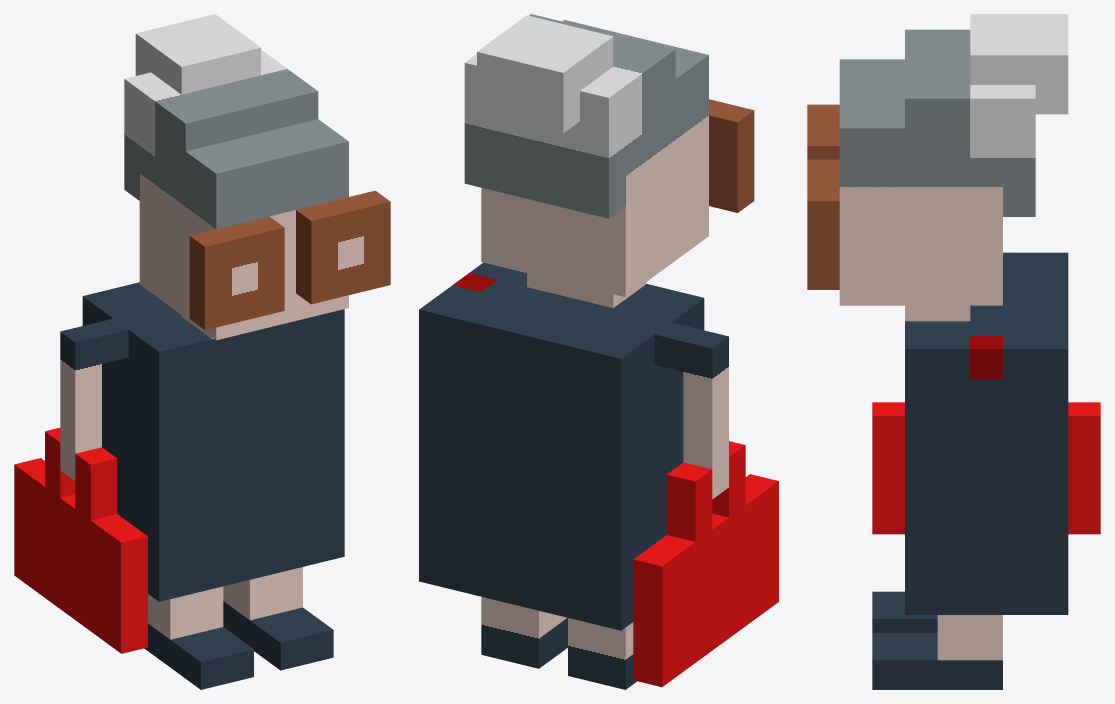
Rendered from Grand_math_body.dae.
3 renders of one model, left to right at view 1: azimuth 30°, elevation 25°; view 2: azimuth 150°, elevation 25°; view 3: azimuth 270°, elevation 25°, orthographic. The views are drawn at different scales.
Parts seen in each view (by area): view 1: pizza_men_17; view 2: pizza_men_17; view 3: pizza_men_17.
Boxes of the visible parts, x1,y1,x2,y2 form: pizza_men_17: (14,14,390,689); pizza_men_17: (419,14,778,689); pizza_men_17: (807,14,1100,689).
Bounding box in the file's own units: 9 × 21 × 9.
